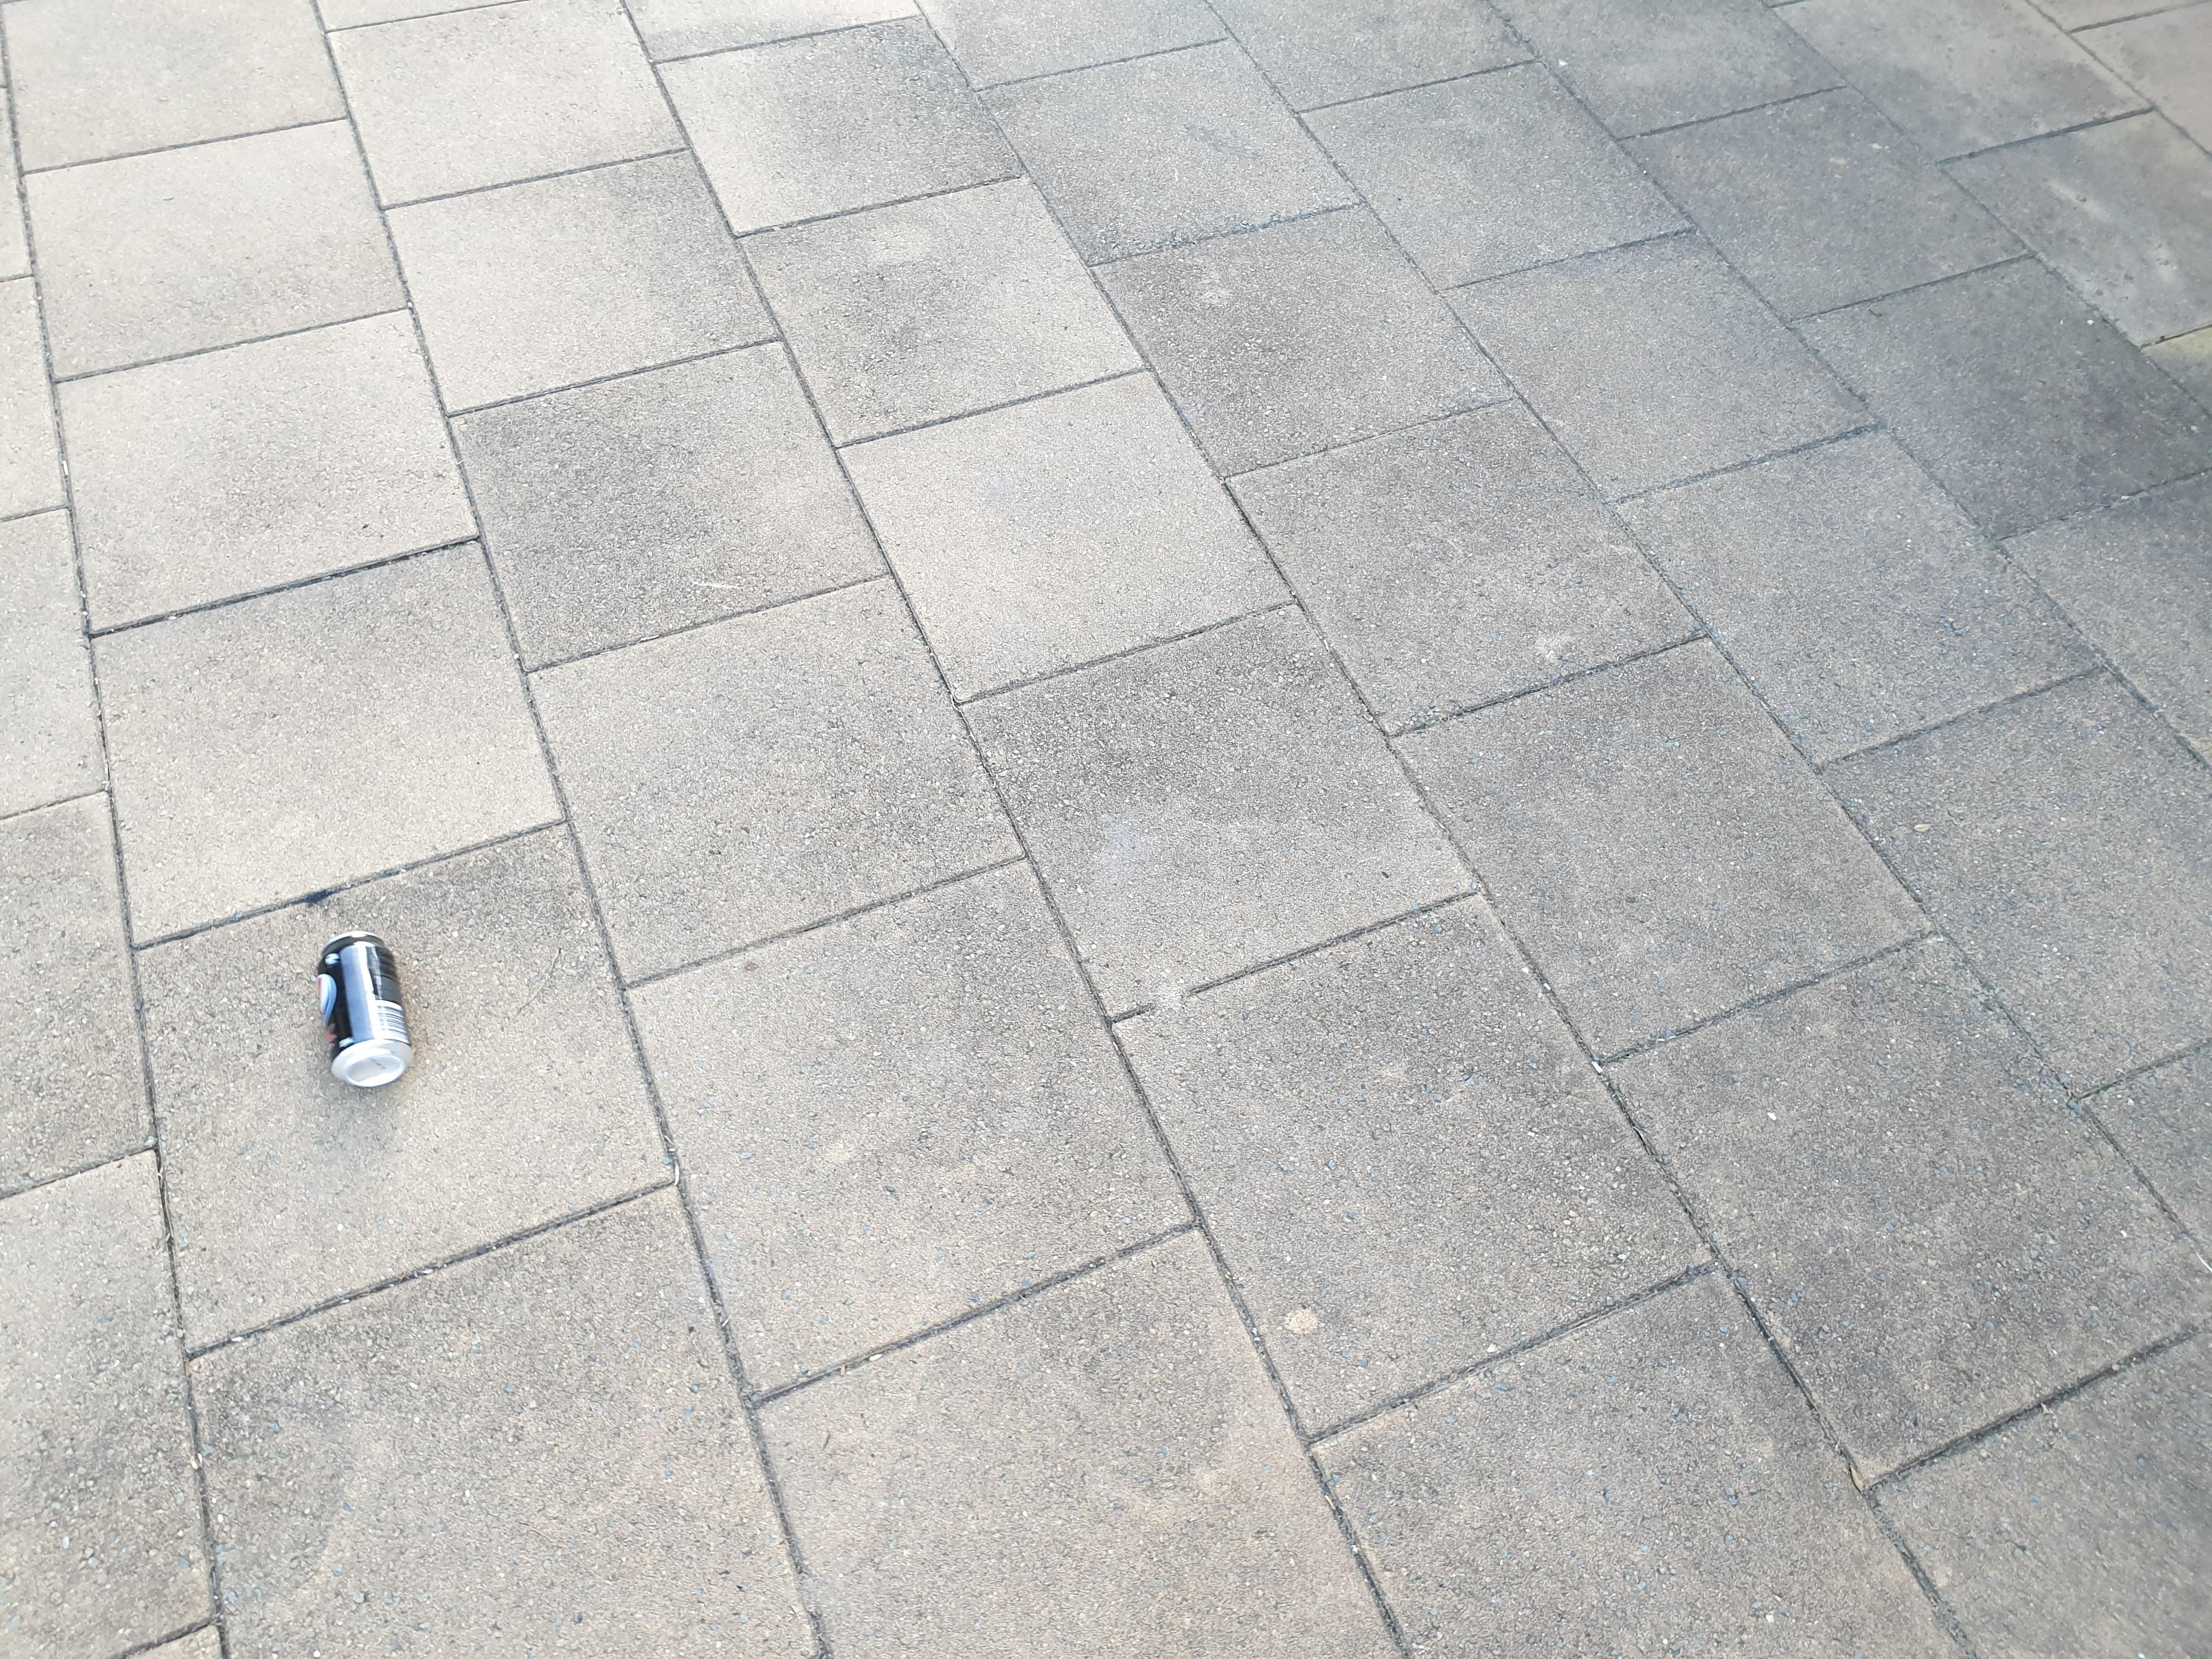Plastic Bottle: (317, 931, 413, 1087)
